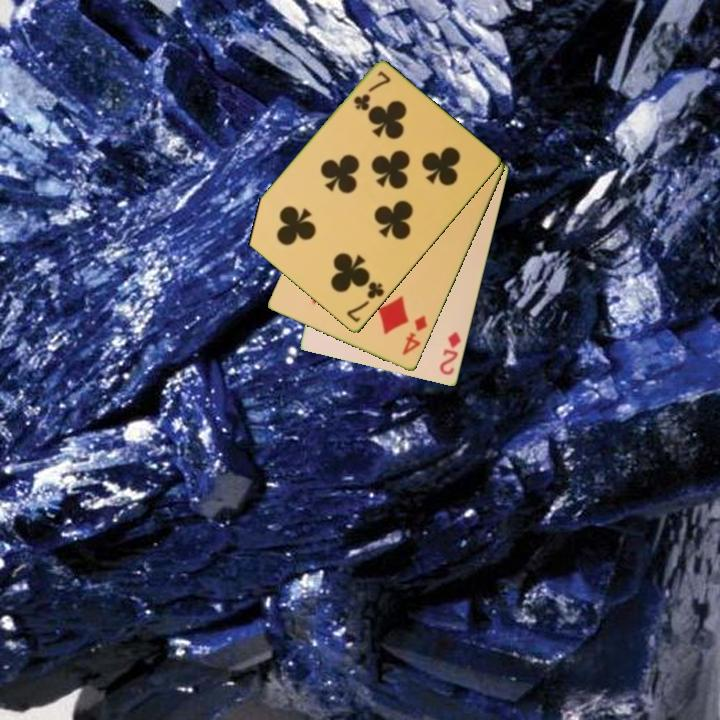2d: (436, 328, 464, 378)
4d: (399, 312, 430, 359)
7c: (343, 278, 387, 326), (350, 68, 394, 114)
